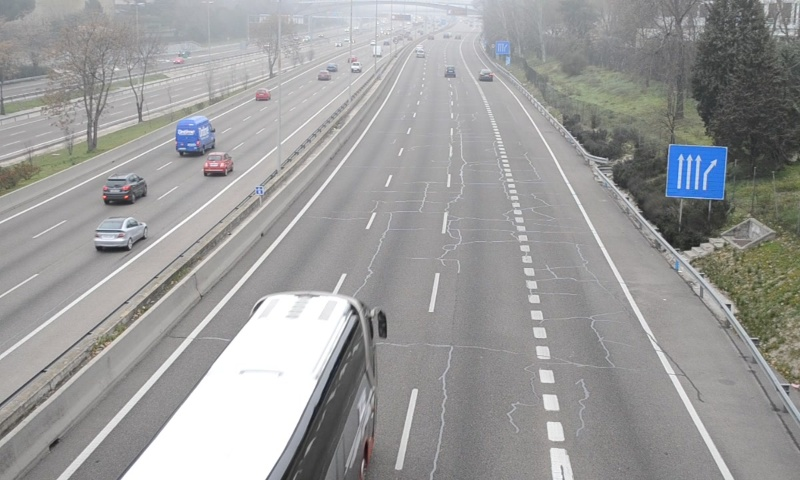bus: (126, 293, 374, 478)
car: (478, 68, 493, 82), (444, 64, 457, 78)
